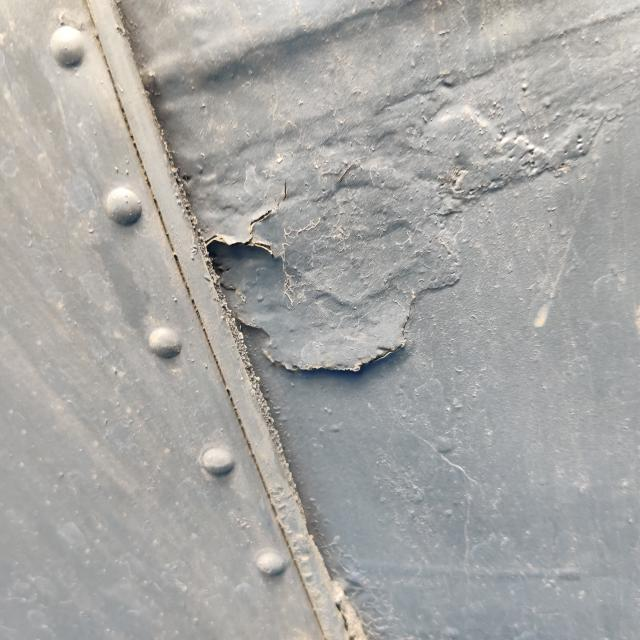paint-off: (190, 186, 433, 401)
